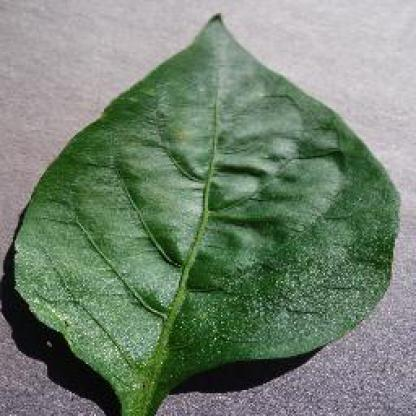good leaf: (9, 11, 396, 412)
